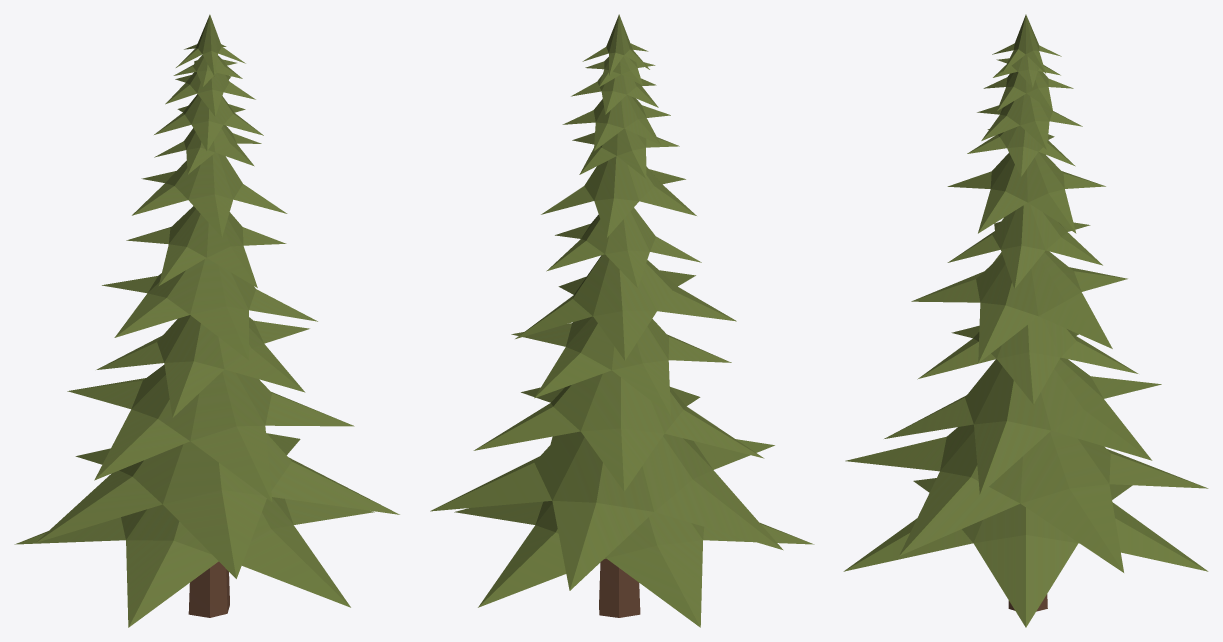
Rendered from Tree_2_TD.fbx.
The picture shows the model from 3 angles, left to right: view 1: azimuth 30°, elevation 25°; view 2: azimuth 150°, elevation 25°; view 3: azimuth 270°, elevation 25°; orthographic projection.
Visible parts, largest first — view 1: polySurface10383; view 2: polySurface10383; view 3: polySurface10383.
Part boxes in pixels (box(x1,y1,x2,y2)): polySurface10383: box(14, 14, 399, 627); polySurface10383: box(430, 14, 814, 627); polySurface10383: box(843, 14, 1208, 627).
Bounding box in the file's own units: 240 × 407 × 229.
